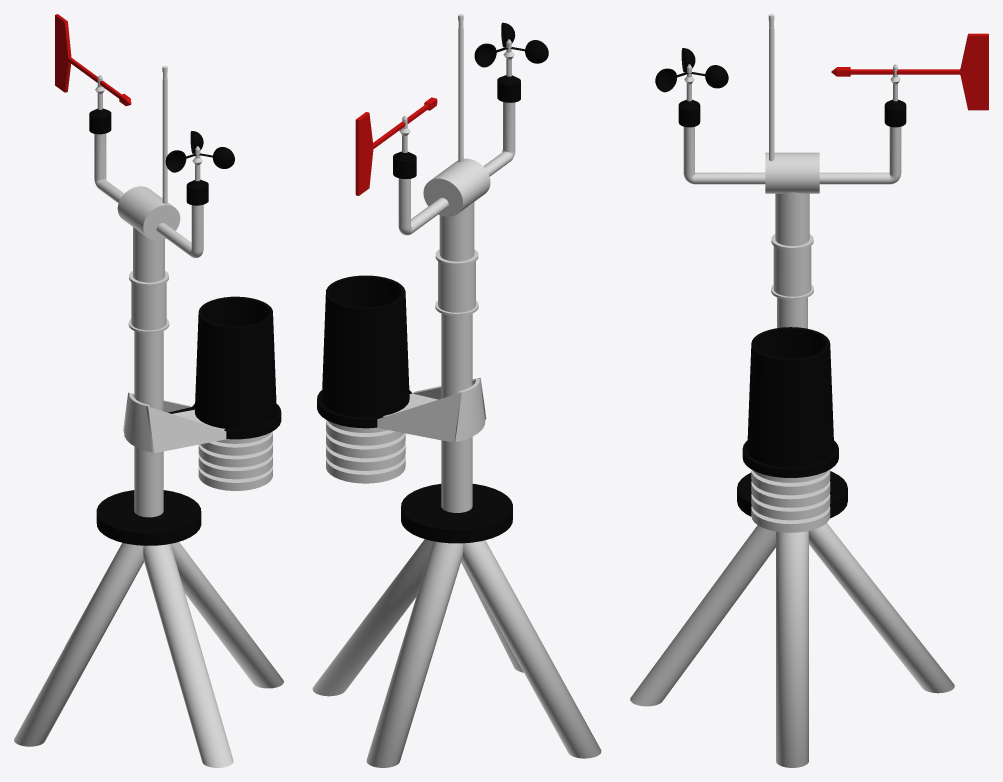
Rendered from stazioneMeteo.fbx.
3 renders of one model, left to right at view 1: azimuth 30°, elevation 25°; view 2: azimuth 150°, elevation 25°; view 3: azimuth 270°, elevation 25°, orthographic. The views are drawn at different scales.
Parts seen in each view (by area): view 1: Corpo, Pluviometro, BraccioAnemometro, BraccioDirezioneVento, DirezioneVentoAsta, Anemometro, Antenna; view 2: Corpo, Pluviometro, BraccioDirezioneVento, BraccioAnemometro, DirezioneVentoAsta, Anemometro, Antenna; view 3: Corpo, Pluviometro, DirezioneVentoAsta, BraccioDirezioneVento, BraccioAnemometro, Anemometro, Antenna.
Boxes of the visible parts, <box> form: Corpo: <box>14,186,283,767</box>; Pluviometro: <box>123,296,281,490</box>; BraccioAnemometro: <box>156,146,208,257</box>; BraccioDirezioneVento: <box>89,75,124,203</box>; DirezioneVentoAsta: <box>55,14,131,105</box>; Anemometro: <box>165,131,234,172</box>; Antenna: <box>162,65,167,203</box>; Corpo: <box>312,158,601,767</box>; Pluviometro: <box>317,275,486,483</box>; BraccioDirezioneVento: <box>393,115,448,235</box>; BraccioAnemometro: <box>483,39,520,176</box>; DirezioneVentoAsta: <box>355,97,437,195</box>; Anemometro: <box>474,22,548,67</box>; Antenna: <box>458,14,463,161</box>; Corpo: <box>630,152,954,767</box>; Pluviometro: <box>742,327,838,532</box>; DirezioneVentoAsta: <box>831,33,988,110</box>; BraccioDirezioneVento: <box>819,64,906,184</box>; BraccioAnemometro: <box>678,64,765,184</box>; Anemometro: <box>655,48,728,92</box>; Antenna: <box>768,14,774,161</box>.
Bounding box in the file's own units: 156 × 364 × 172.
